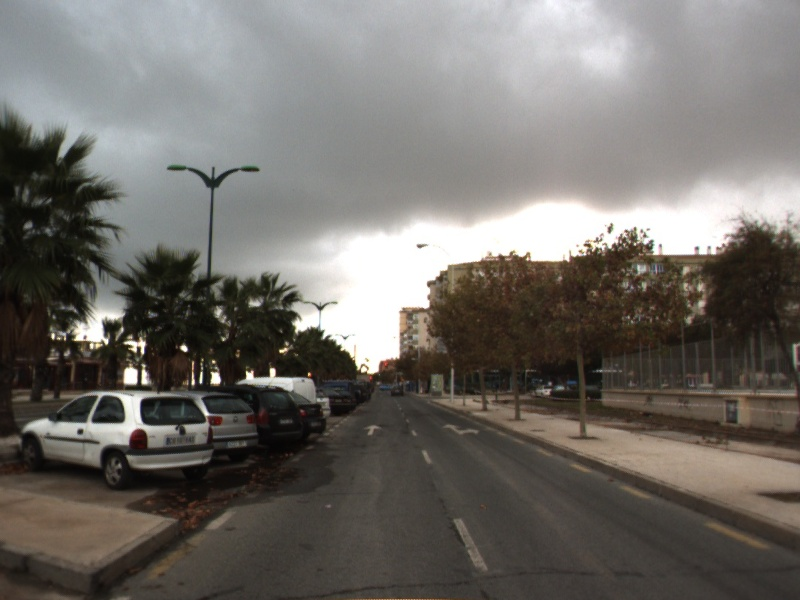STRAIGHT: (362, 423, 385, 438)
STRAIGHT_RIGHT: (439, 421, 482, 438)
